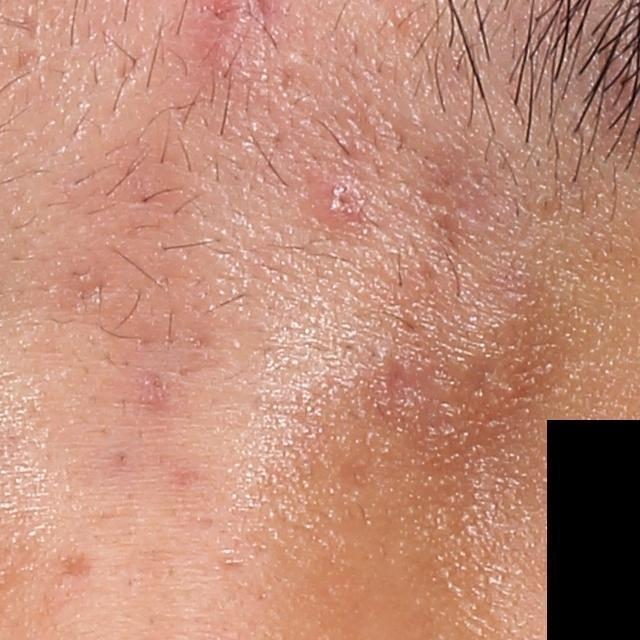papule: (321, 177, 371, 224)
